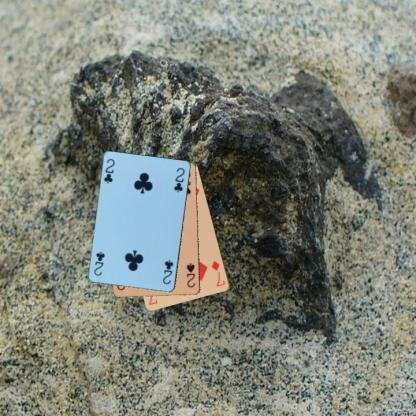2c: (102, 156, 116, 185), (160, 258, 175, 285)
2s: (184, 261, 196, 289)
7d: (209, 258, 227, 288)
